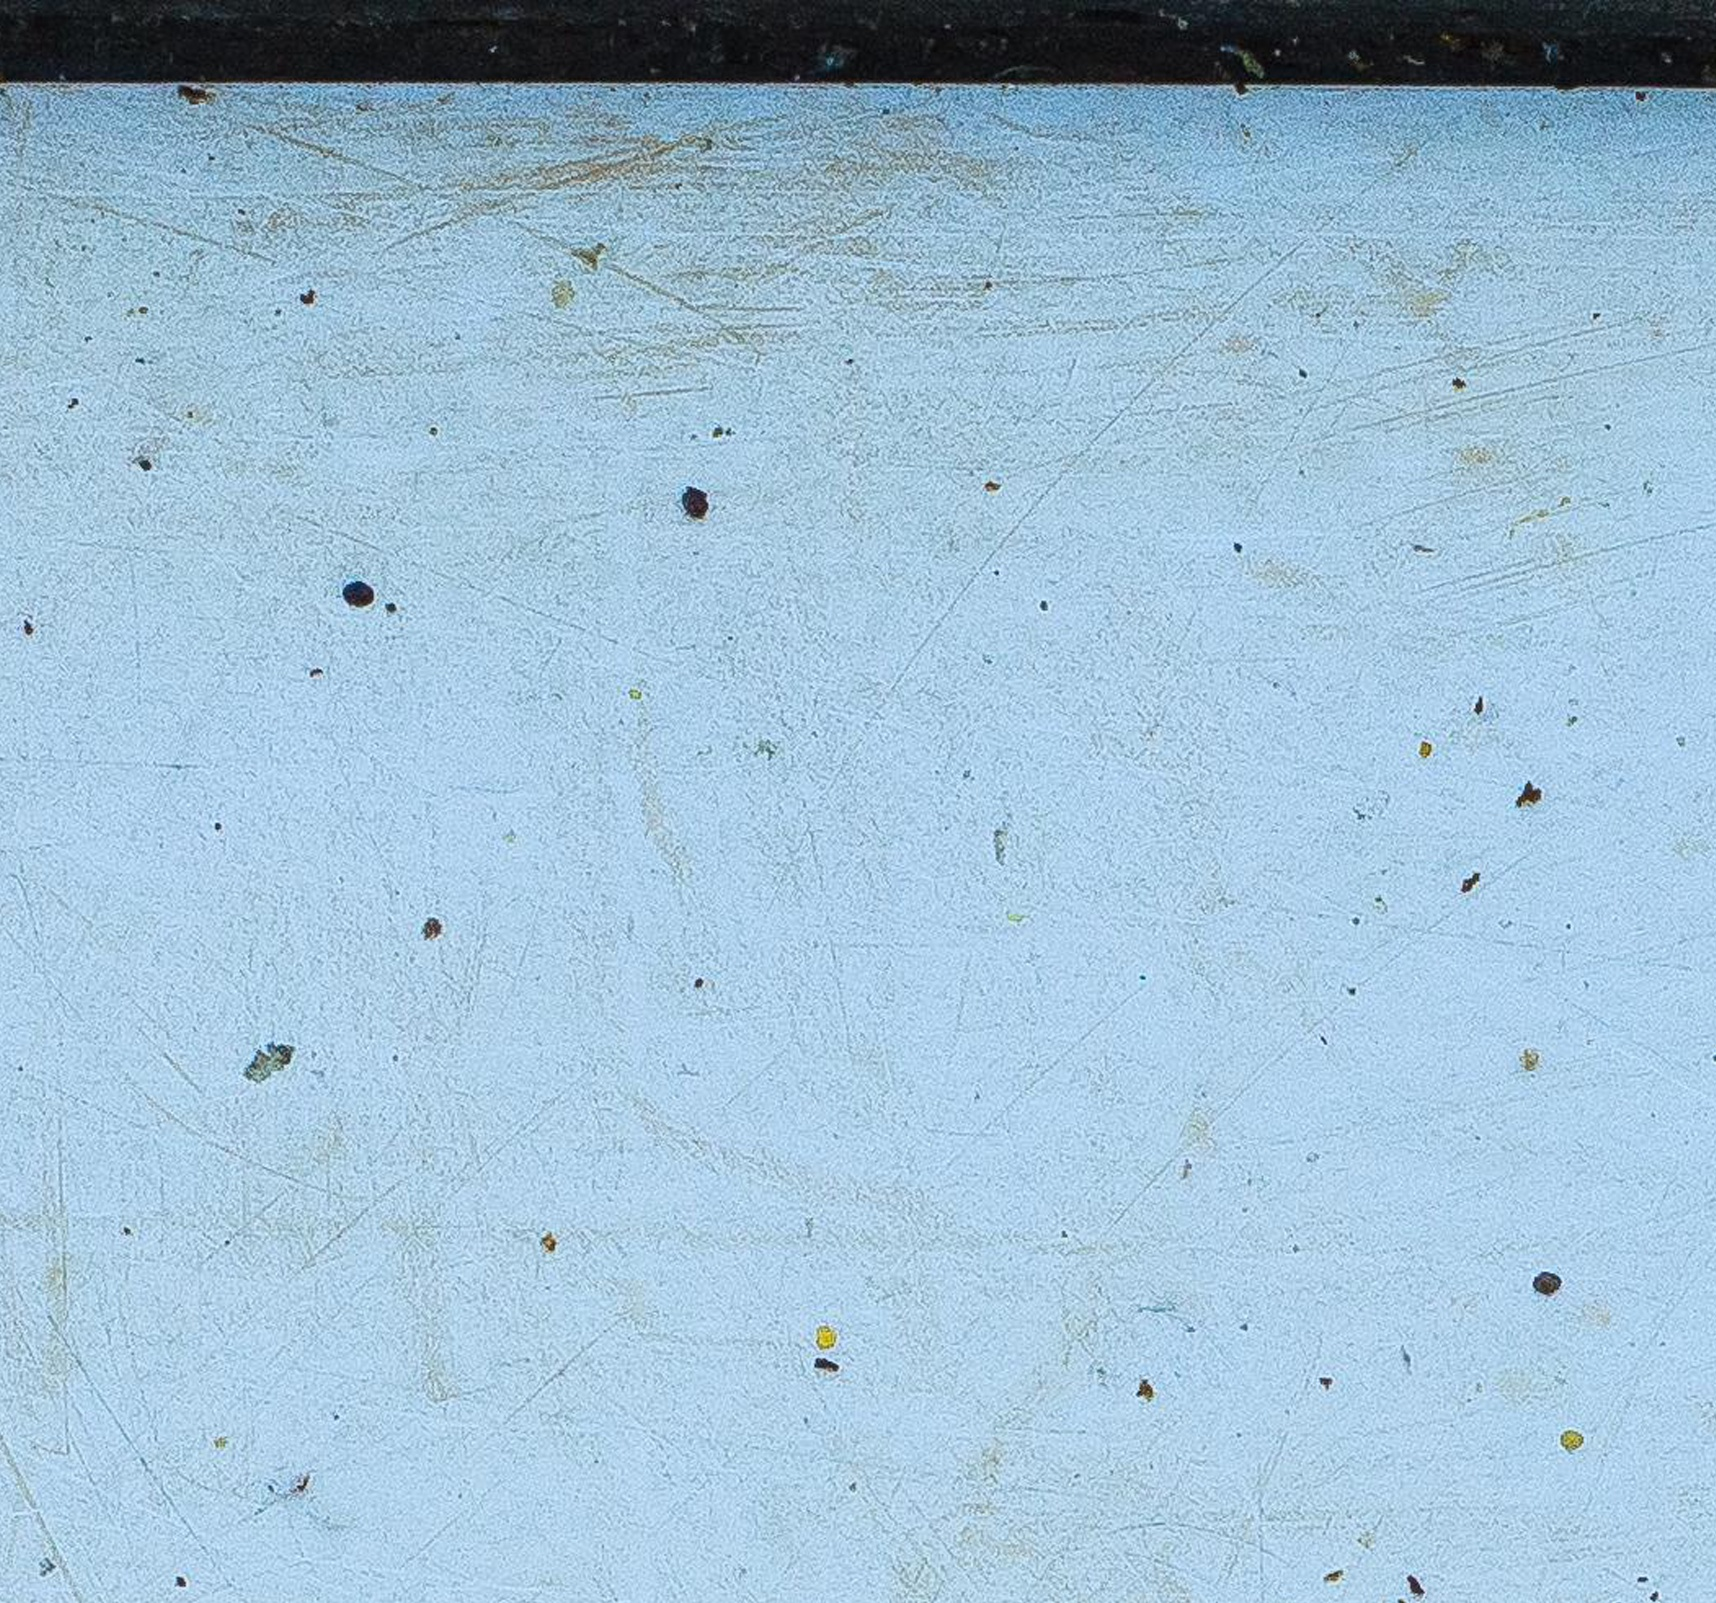Varroa: (672, 481, 719, 527), (336, 571, 381, 618), (1525, 1259, 1570, 1306)
